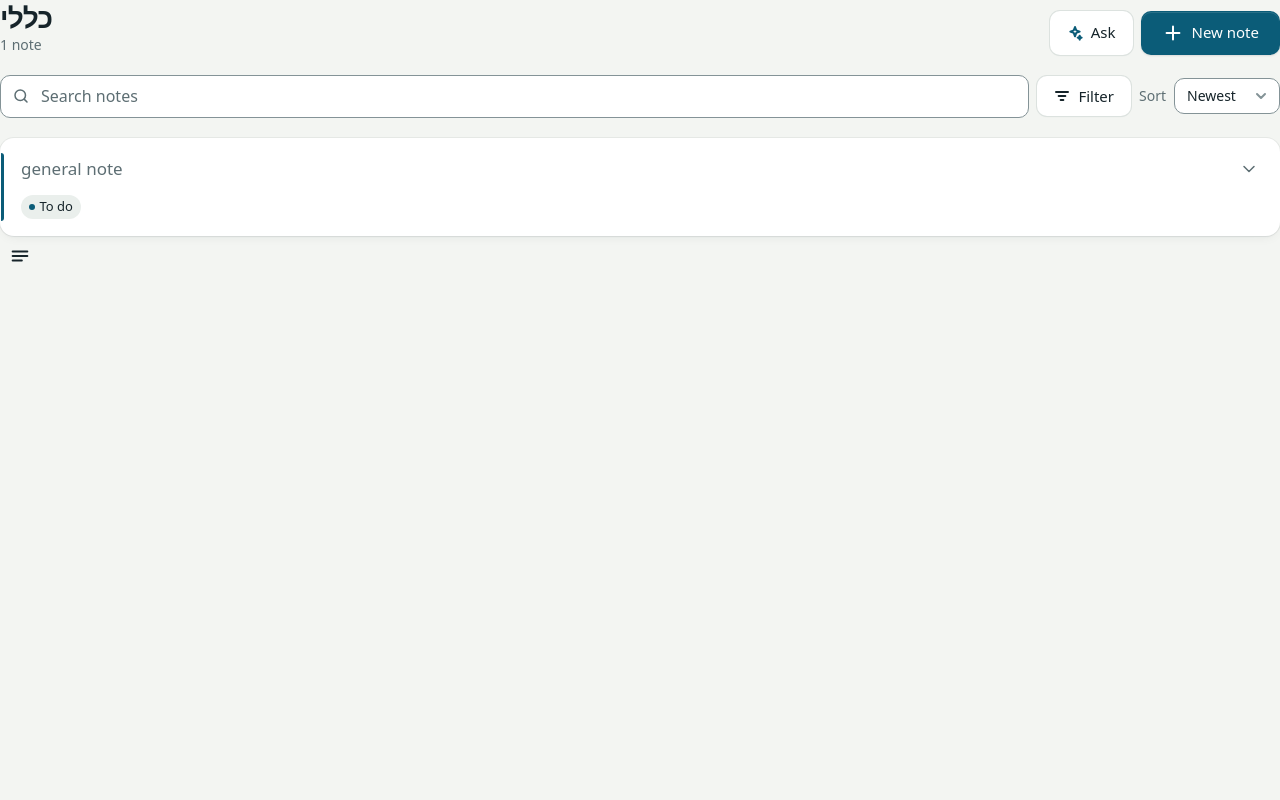
Test case: workspaces dialog › lists workspaces; picking one closes it and shows only that workspace’s notes
Expected: the text "general note" is shown, [21,157,123,180]
Expected: the text "knowledge note" is not shown
Click the button named "Menu". click: point(20, 256)
box: [0,236,40,276]
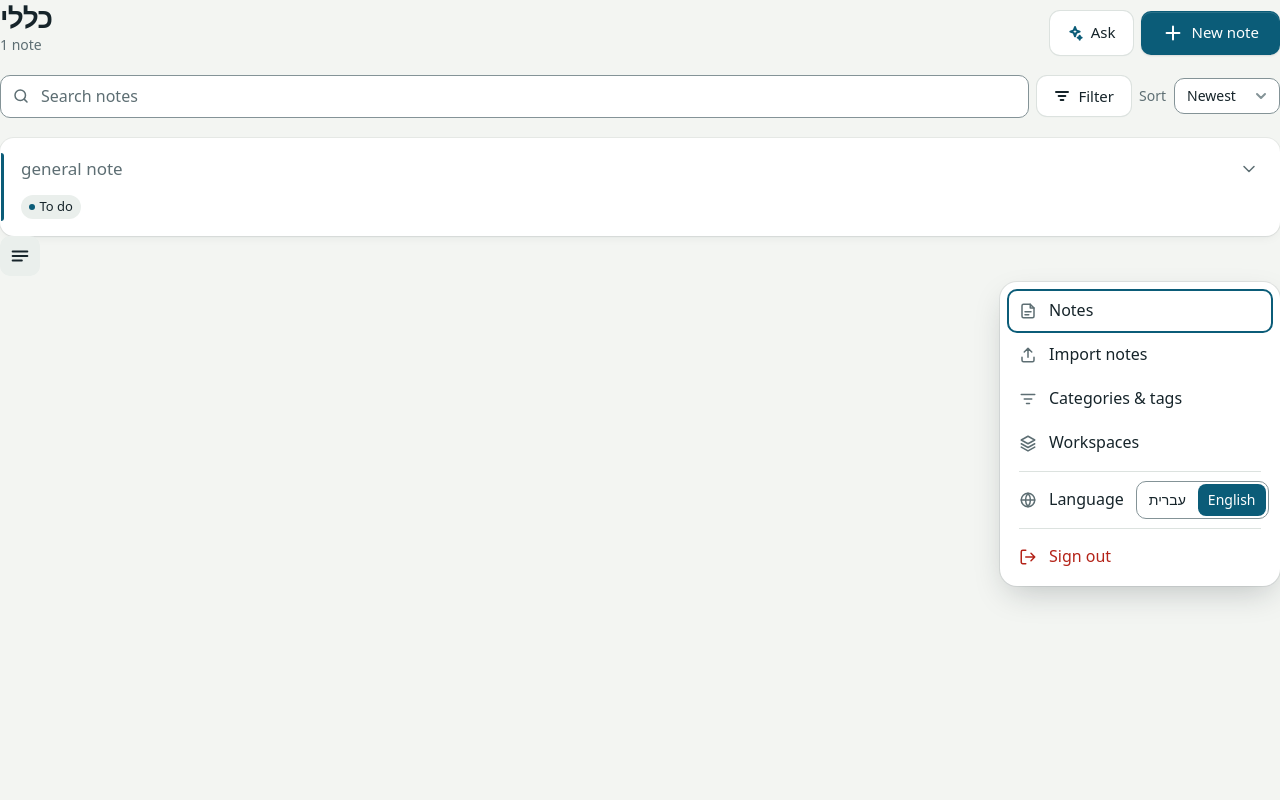
Click the menu item "Workspaces". click: point(1140, 443)
box: [1007,421,1273,465]
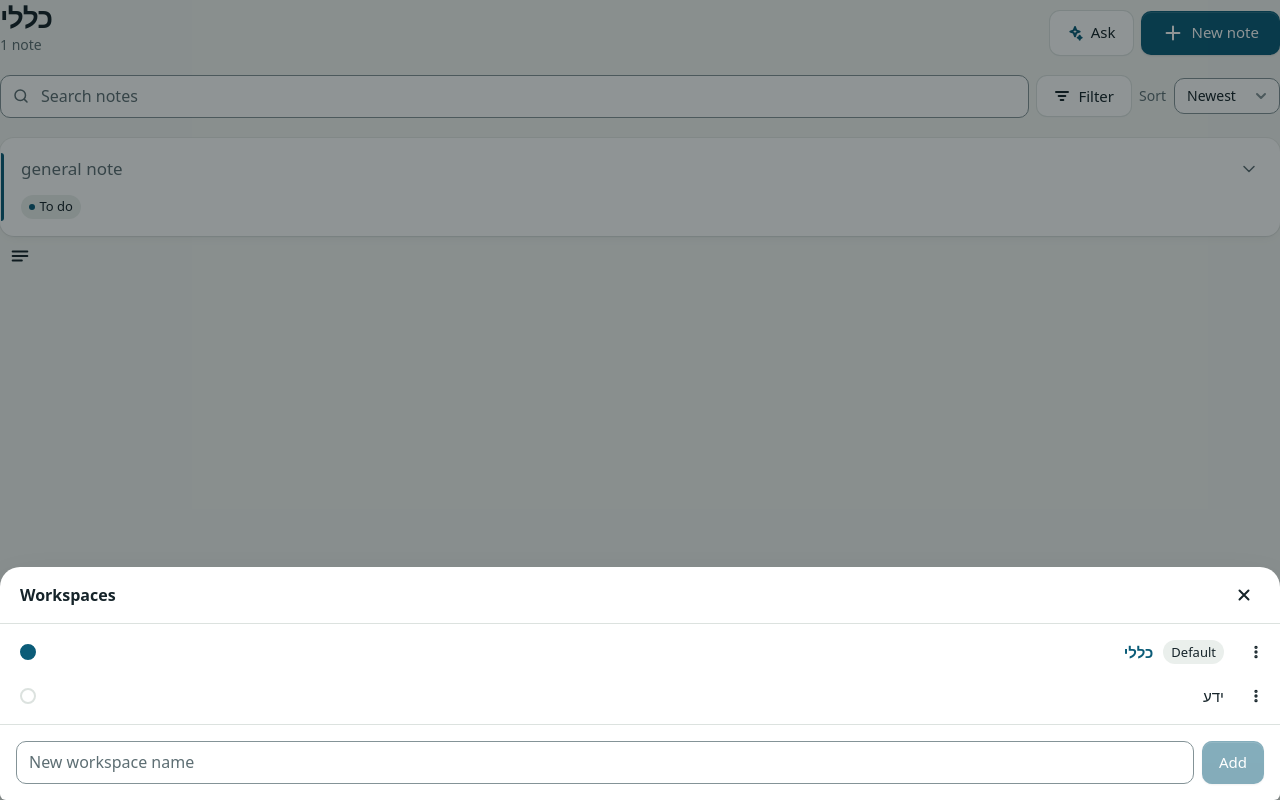
Click the radio button labelled "ידע". click: point(28, 696)
box: [8,676,1236,716]
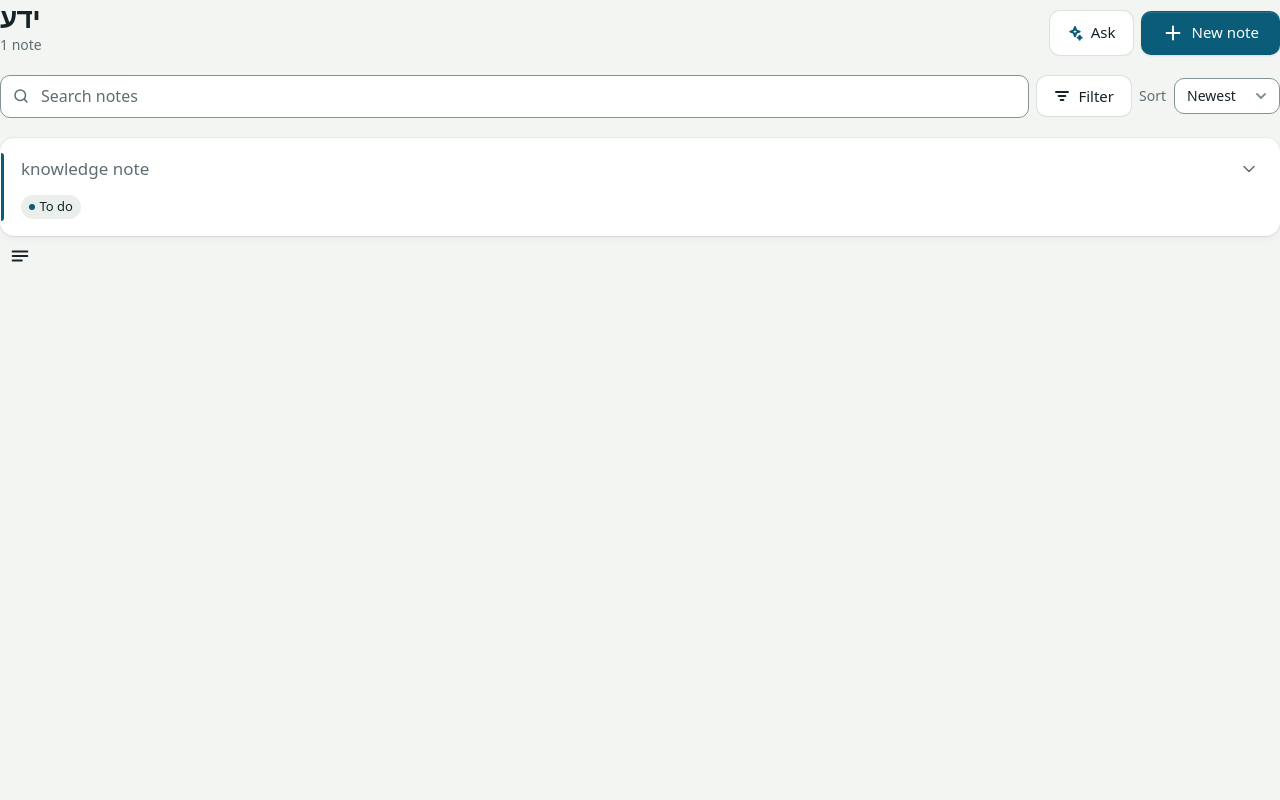
Now the dialog is gone
Now the text "knowledge note" is shown, box [21,157,149,180]
Now the button "general note" is gone
